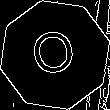O_S: (28, 25, 82, 85)
